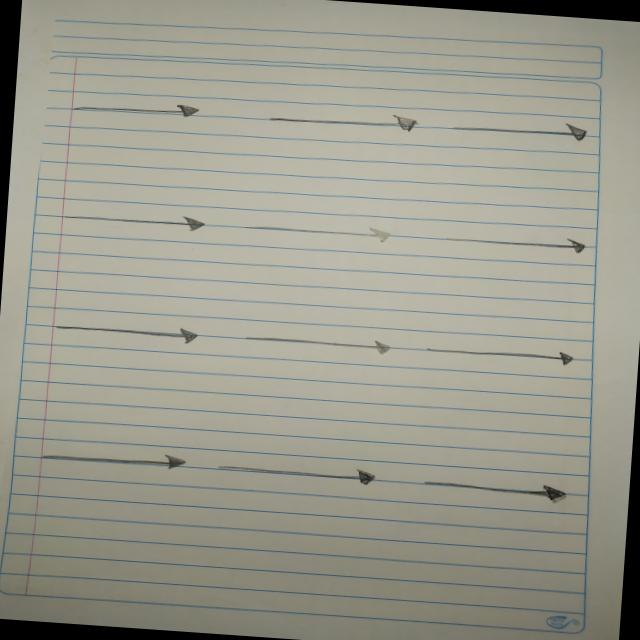arrow_line_right: (410, 465, 584, 511), (230, 320, 400, 366), (211, 455, 399, 496), (226, 212, 407, 252), (436, 107, 604, 150), (54, 194, 212, 239), (428, 221, 596, 263), (416, 334, 588, 375), (41, 315, 210, 356), (256, 102, 424, 140), (35, 441, 201, 478), (66, 92, 212, 126)
